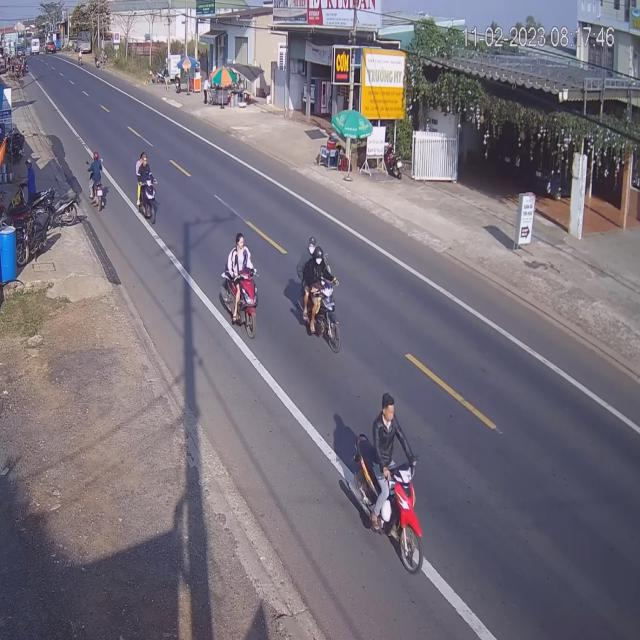motorbike: (353, 396, 420, 576), (294, 241, 338, 354), (220, 232, 258, 341), (136, 151, 157, 225), (89, 152, 108, 212)
